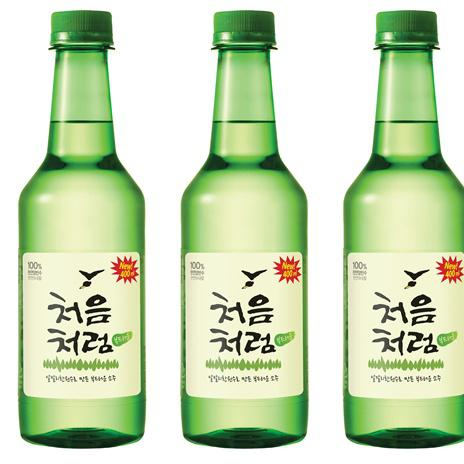soju: (15, 7, 464, 450)
